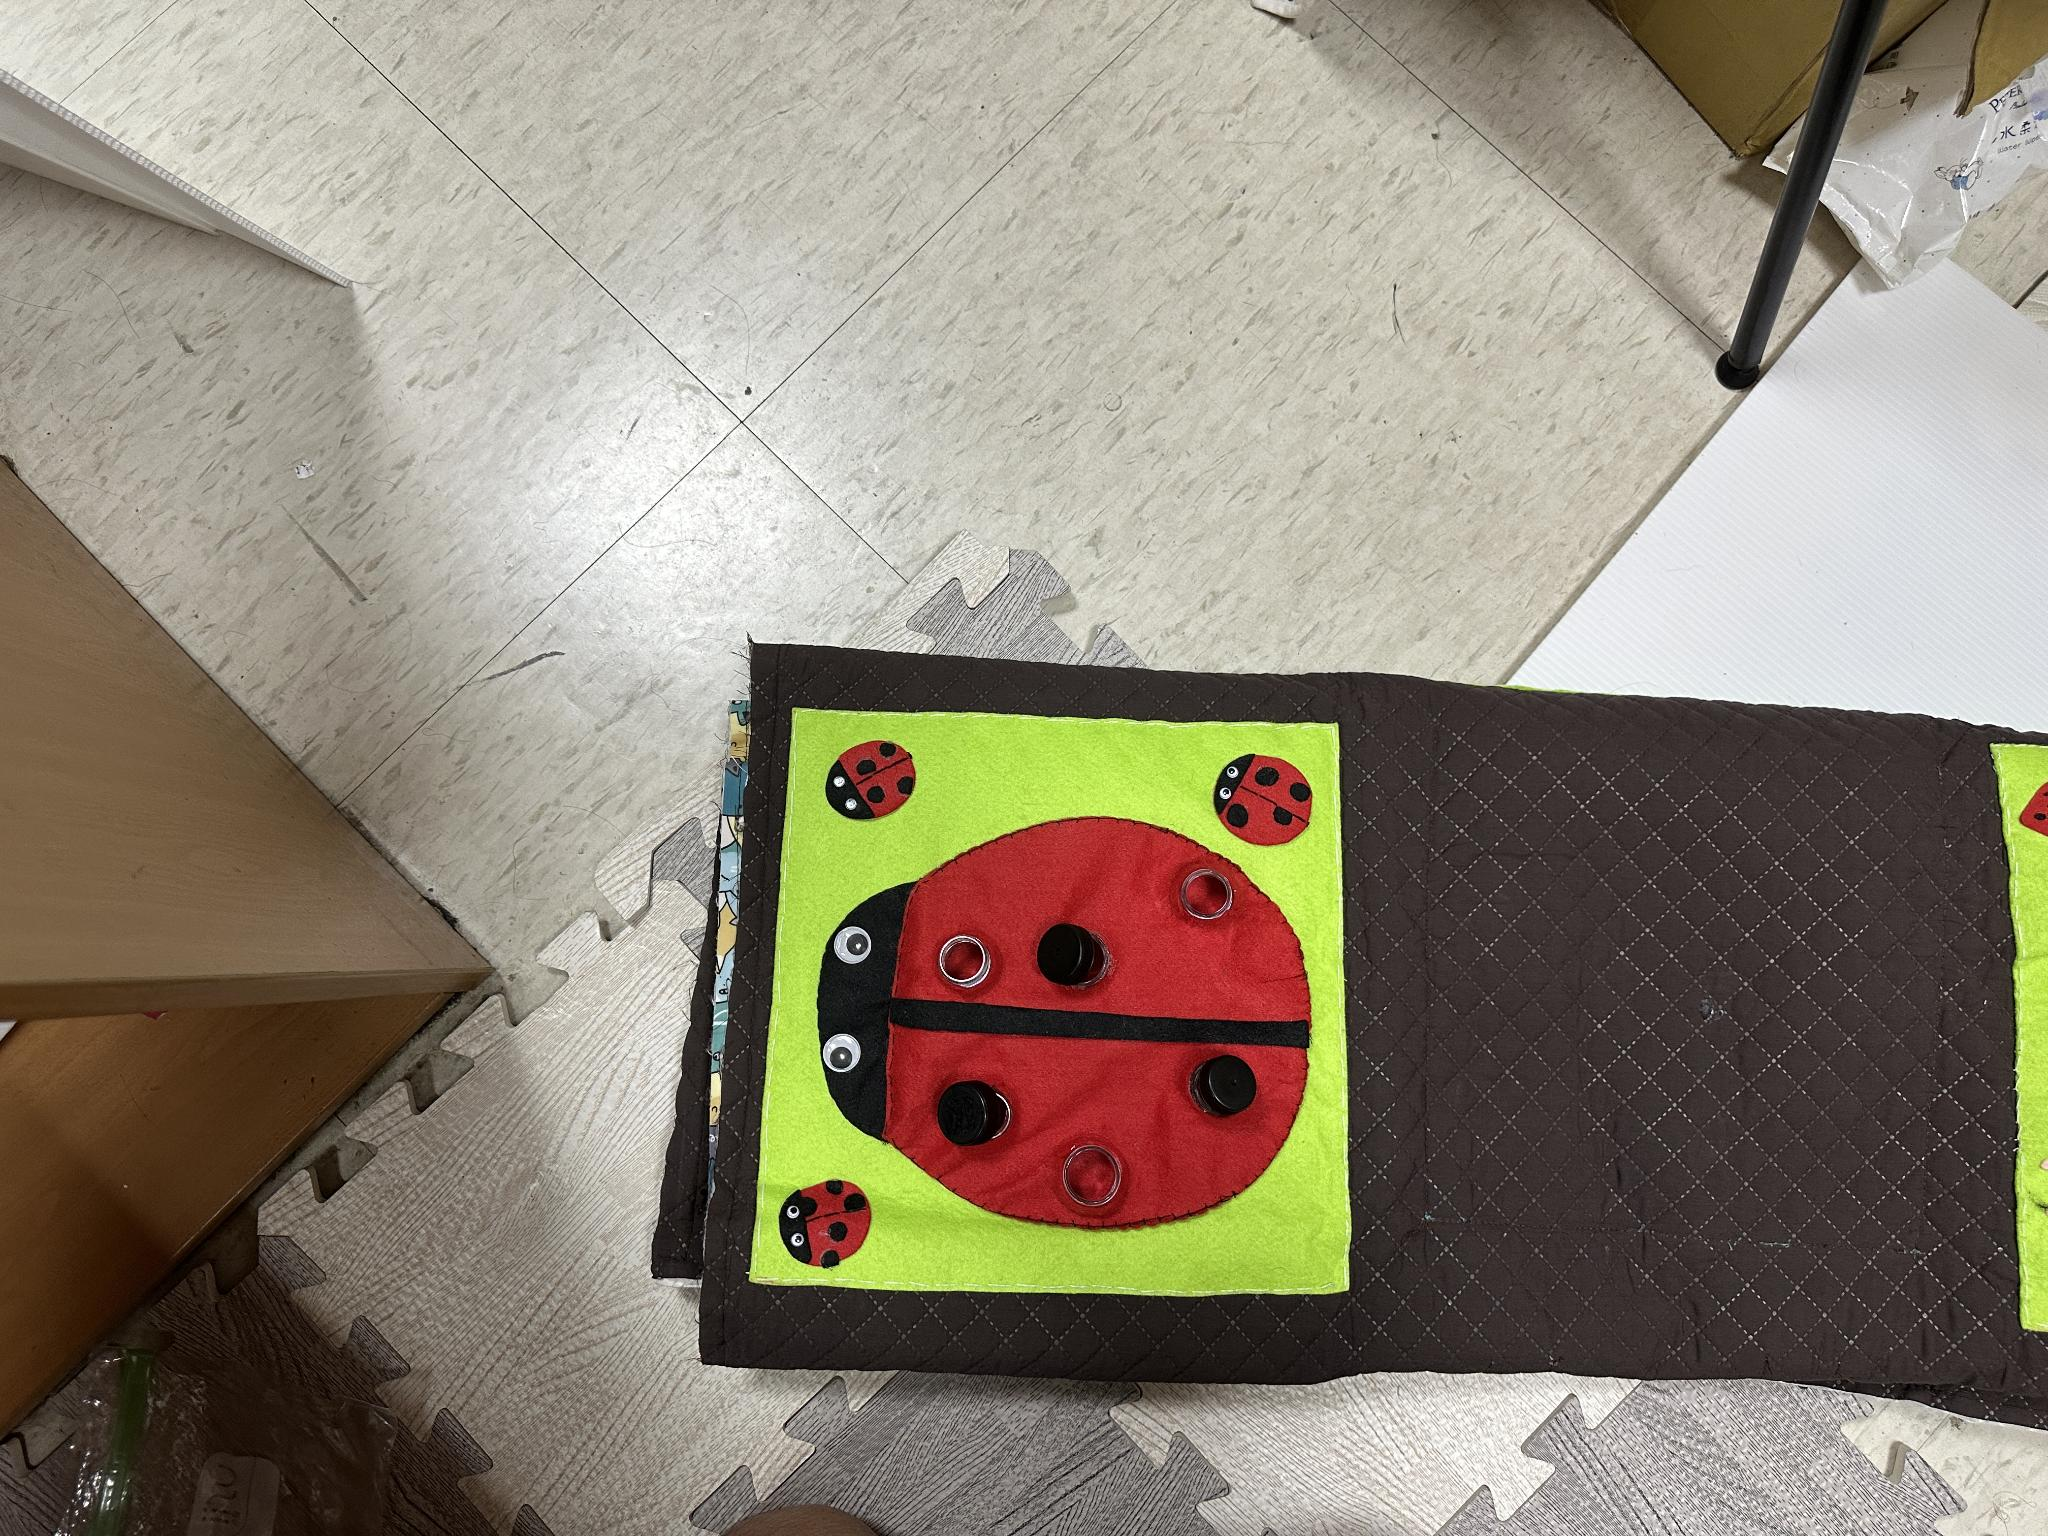cap_ng: (934, 1066, 1016, 1158), (1037, 916, 1126, 997), (1187, 1050, 1269, 1129)
